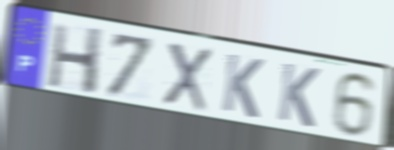6: (330, 70, 379, 139)
7: (108, 30, 158, 101)
H: (46, 21, 106, 98)
K: (275, 60, 322, 131), (220, 51, 266, 122)
X: (161, 39, 213, 114)
